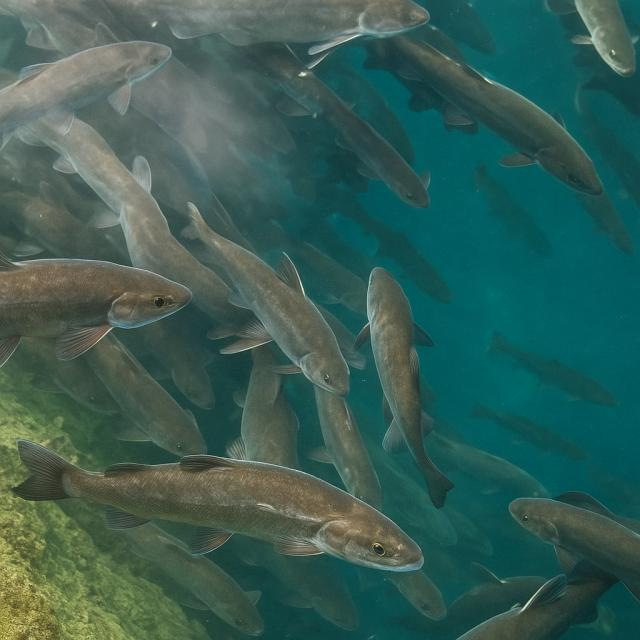ikan: (11, 440, 403, 568), (366, 28, 608, 200), (182, 213, 356, 380), (1, 240, 192, 380), (361, 278, 451, 510), (1, 40, 170, 157), (511, 492, 636, 616), (225, 342, 301, 472), (547, 2, 639, 77)
